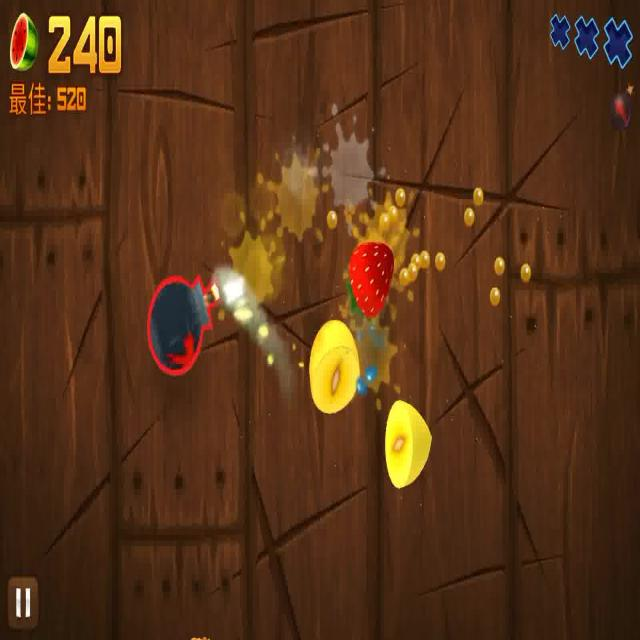bomb: (142, 261, 243, 385)
fruit: (382, 392, 435, 493), (346, 231, 396, 328), (311, 321, 357, 422)
